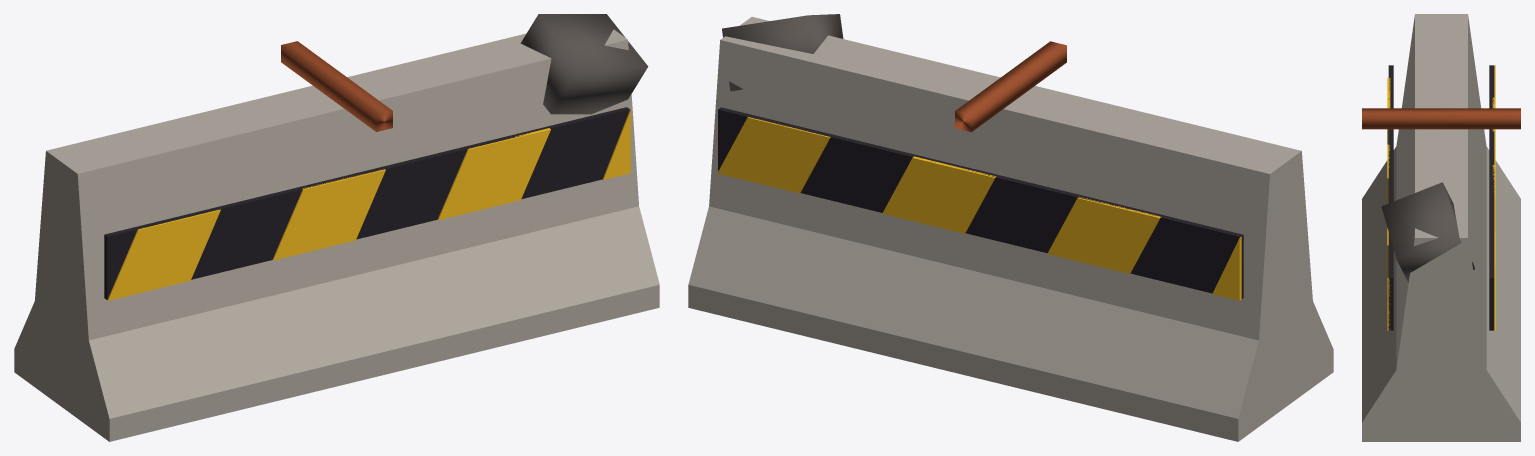
File: city_barrier_jersey.glb
The picture shows the model from 3 angles, left to right: view 1: azimuth 30°, elevation 25°; view 2: azimuth 150°, elevation 25°; view 3: azimuth 270°, elevation 25°; orthographic projection. The views are drawn at different scales.
Visible parts, largest first — view 1: Jersey; view 2: Jersey; view 3: Jersey.
Boxes of the visible parts, left/top/right/bottom form: Jersey: left=14, top=14, right=659, bottom=441; Jersey: left=688, top=14, right=1333, bottom=441; Jersey: left=1362, top=14, right=1520, bottom=441.
Bounding box in the file's own units: 2.03 × 0.9588 × 0.6.
